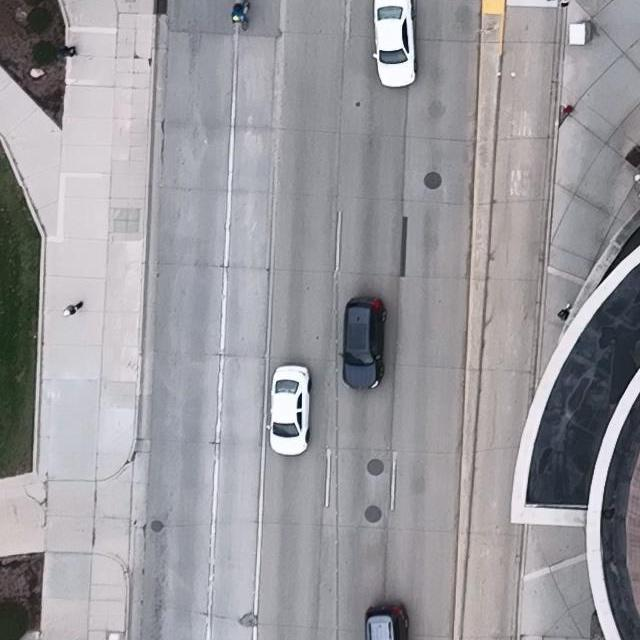car: (339, 295, 388, 390), (267, 364, 313, 455), (371, 0, 417, 89), (364, 604, 409, 640)
